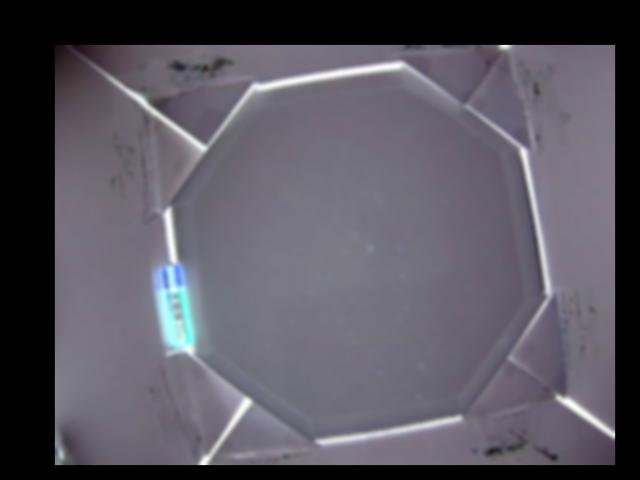Battery: (158, 262, 194, 346)
